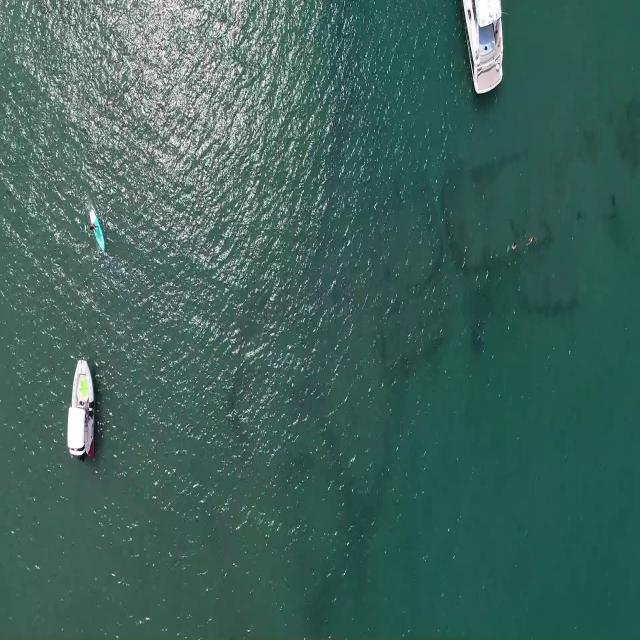boat: (460, 0, 506, 95), (65, 347, 97, 467)
person: (526, 235, 540, 249), (87, 220, 99, 234), (511, 240, 518, 250)
surfboard: (88, 204, 104, 255)
